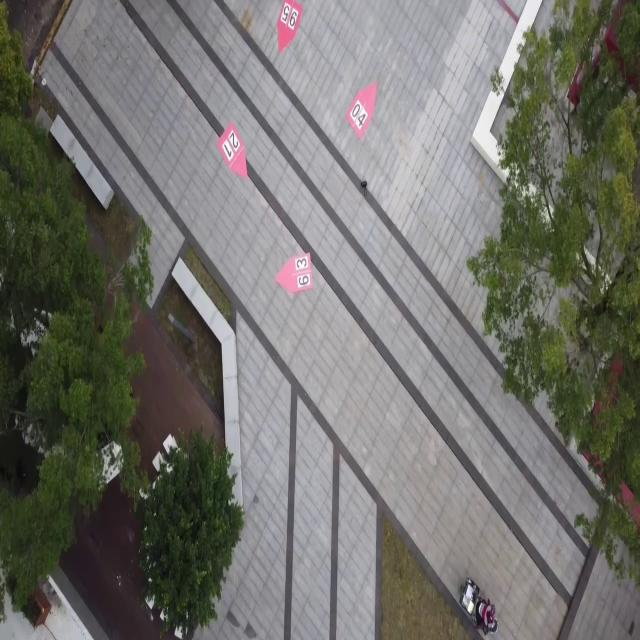-sign-: (218, 107, 260, 188), (348, 65, 386, 147), (270, 248, 326, 302), (279, 0, 302, 76)
